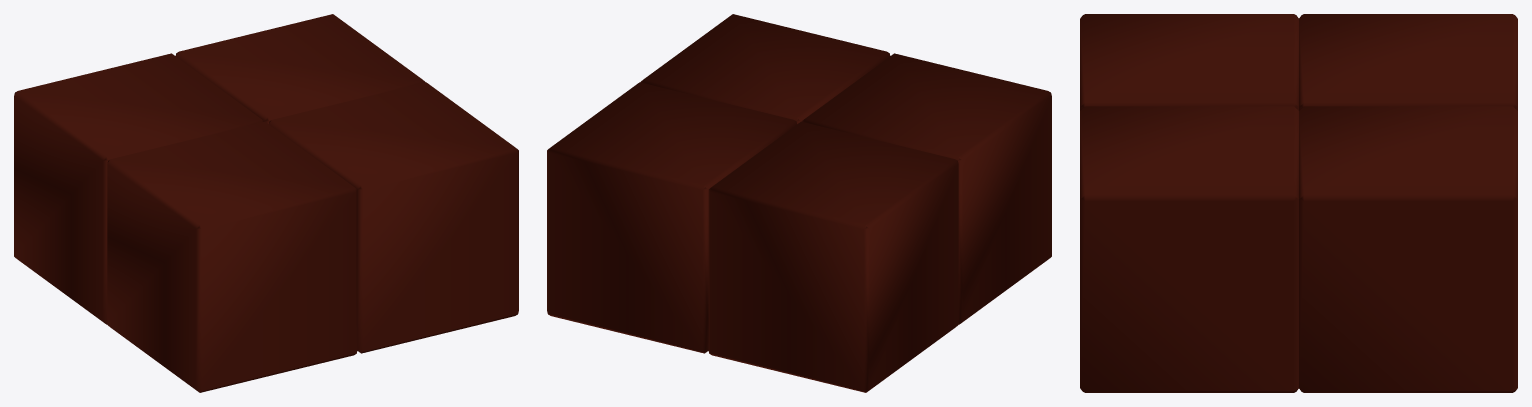
File: brown_block_base_link.dae
3 renders of one model, left to right at view 1: azimuth 30°, elevation 25°; view 2: azimuth 150°, elevation 25°; view 3: azimuth 270°, elevation 25°, orthographic. The views are drawn at different scales.
Visible parts, largest first — view 1: root (×4); view 2: root (×4); view 3: root (×4).
Boxes of the visible parts, left/top/right/bottom form: root (×4): left=14, top=14, right=518, bottom=392; root (×4): left=547, top=14, right=1051, bottom=392; root (×4): left=1080, top=14, right=1517, bottom=392.
Size of the model in its own units: 0.06 by 0.03 by 0.06.
